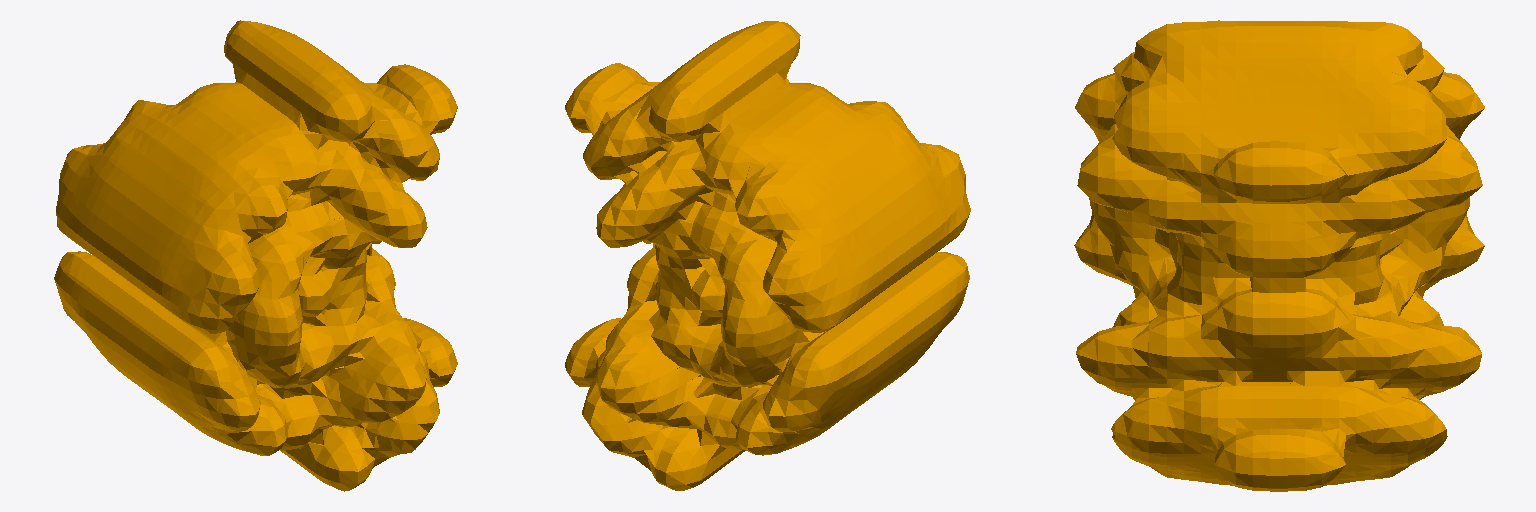
URDF robot description (D22_1):
<?xml version="1.0"?>
<robot name="D22_1">
  <link name="base_link">
    <visual>
      <geometry>
        <mesh filename="../../../../meshes/egad/train/D22_1.obj" />
      </geometry>
    </visual>
  </link>
</robot>

--- Facts derived from the render (not from the file) ---
Views: 3 orthographic renders of the robot side by side, from view 1: azimuth 30°, elevation 25°; view 2: azimuth 150°, elevation 25°; view 3: azimuth 270°, elevation 25°.
Model D22_1 with 1 links and 0 joints (none), rooted at base_link, posed every joint at zero.
Visible links, largest first — view 1: base_link; view 2: base_link; view 3: base_link.
Link boxes in pixels (x1,y1,x2,y2): base_link: [54, 20, 457, 491]; base_link: [565, 21, 970, 490]; base_link: [1074, 20, 1484, 491].
Bounding box of the posed robot: 0.0619 × 0.0601 × 0.0739 m (x, y, z).
Meshes: 1 distinct files referenced, 1 mesh visuals loaded (1 OBJ).